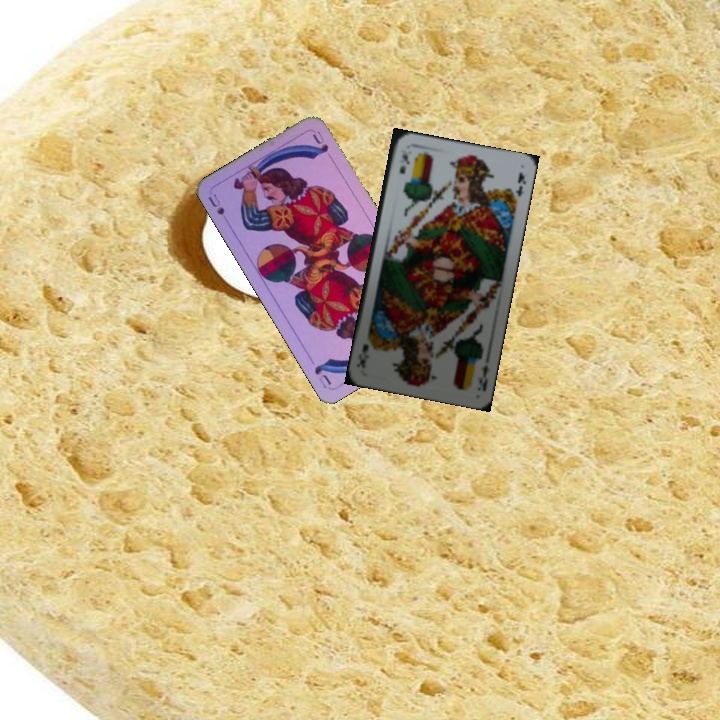EK: (473, 361, 493, 394), (394, 150, 411, 177)
SU: (204, 189, 227, 218)
